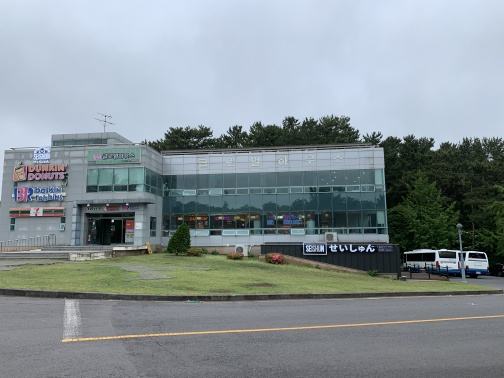Global House: (1, 129, 396, 269)
